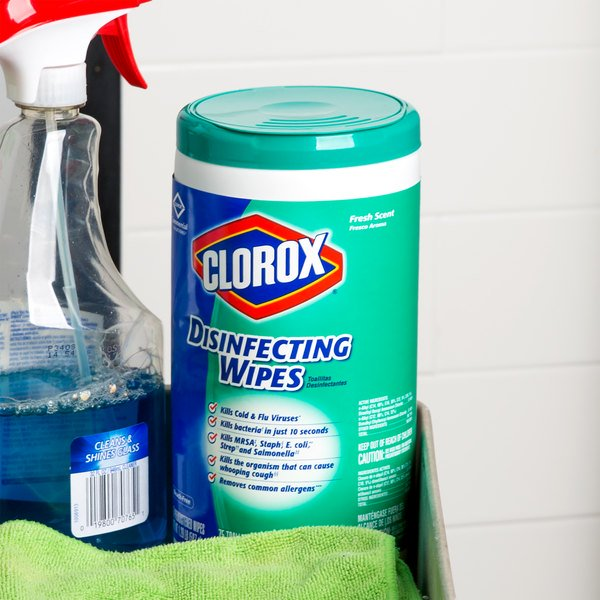Wipes: (167, 81, 426, 549)
